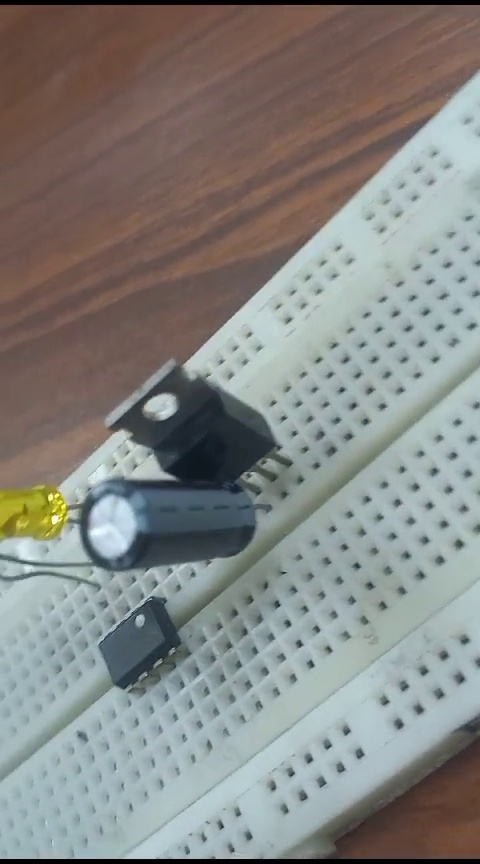IC: (82, 595, 184, 680)
LED: (8, 480, 68, 540)
capacitor: (71, 469, 271, 567)
voltage regulator: (108, 352, 288, 483)
